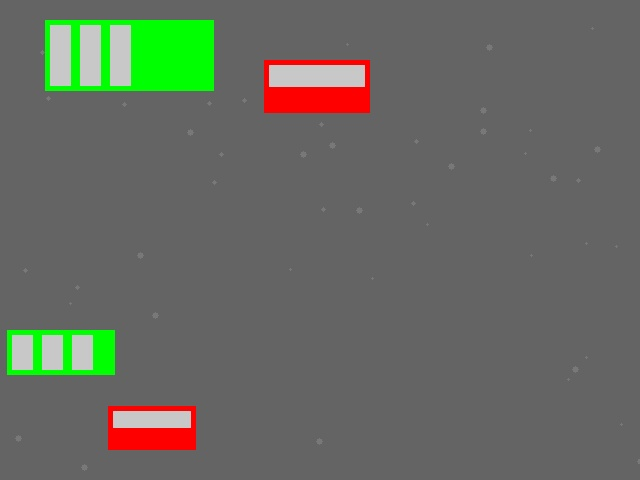bus: (45, 20, 213, 90), (7, 330, 114, 374)
car: (264, 60, 369, 112), (108, 406, 195, 449)
